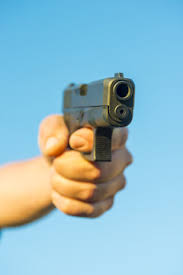gun: (38, 72, 137, 219)
